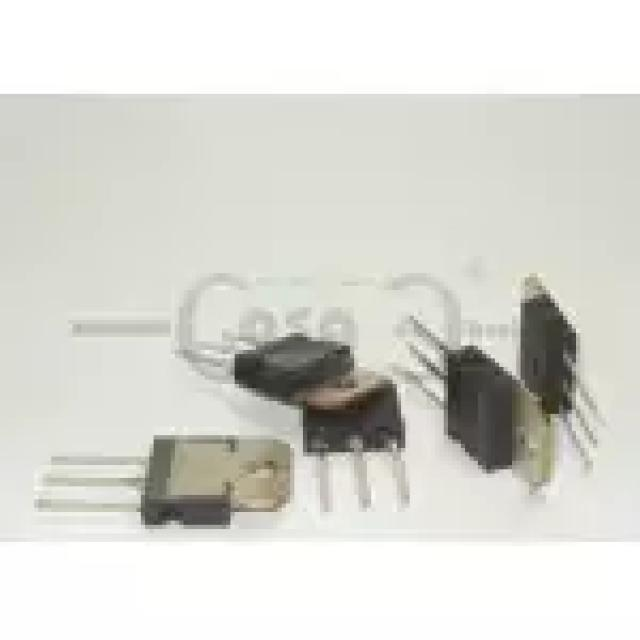Transistor: (397, 316, 571, 496), (34, 431, 294, 529), (521, 273, 610, 478), (179, 316, 358, 405), (299, 375, 410, 516)
